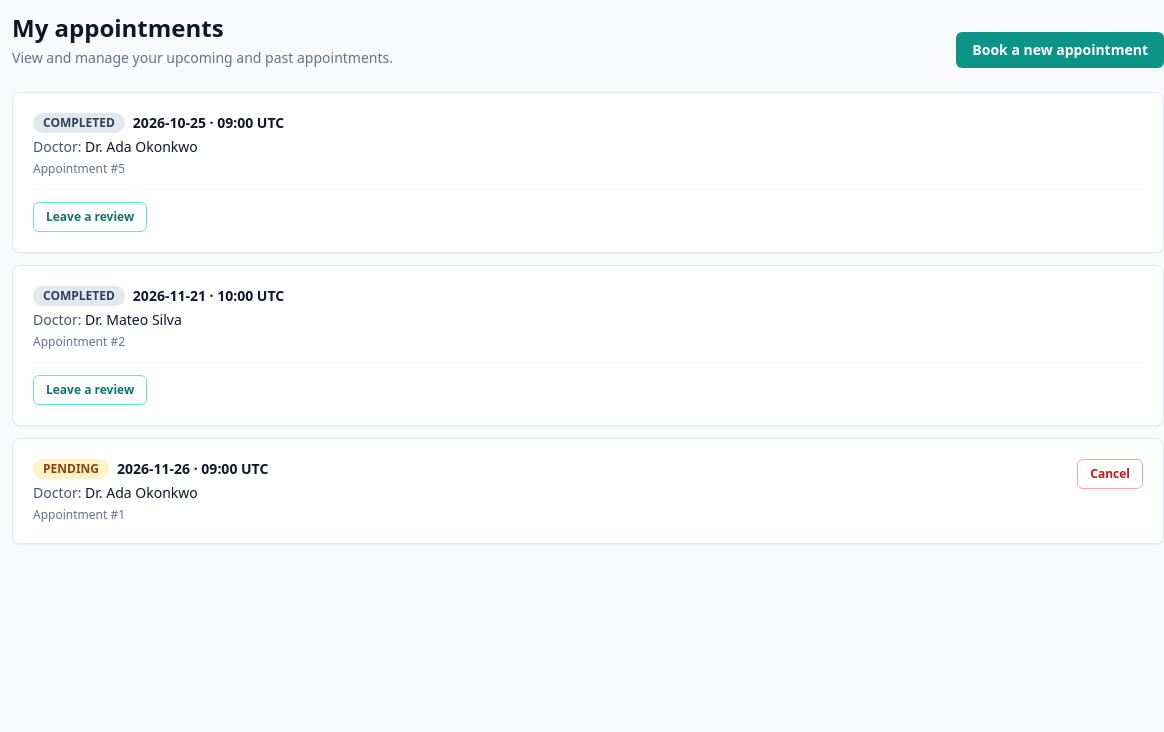
Scenario: MyAppointmentsPage › explains when the cancellation window has closed (409)
Click the button with aria-label "cancel appointment 1": coordinates (1110, 474) [1077,459,1143,489]
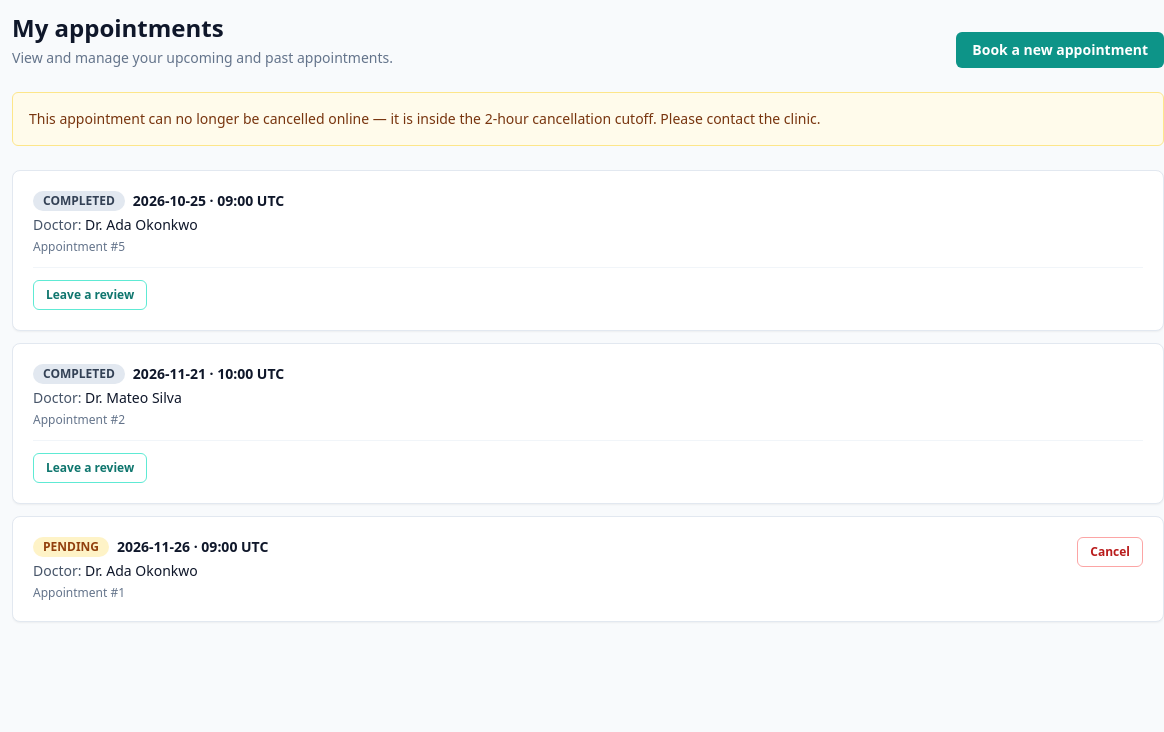
Check: the message shows "2-hour cancellation cutoff", box [29,109,820,128]
